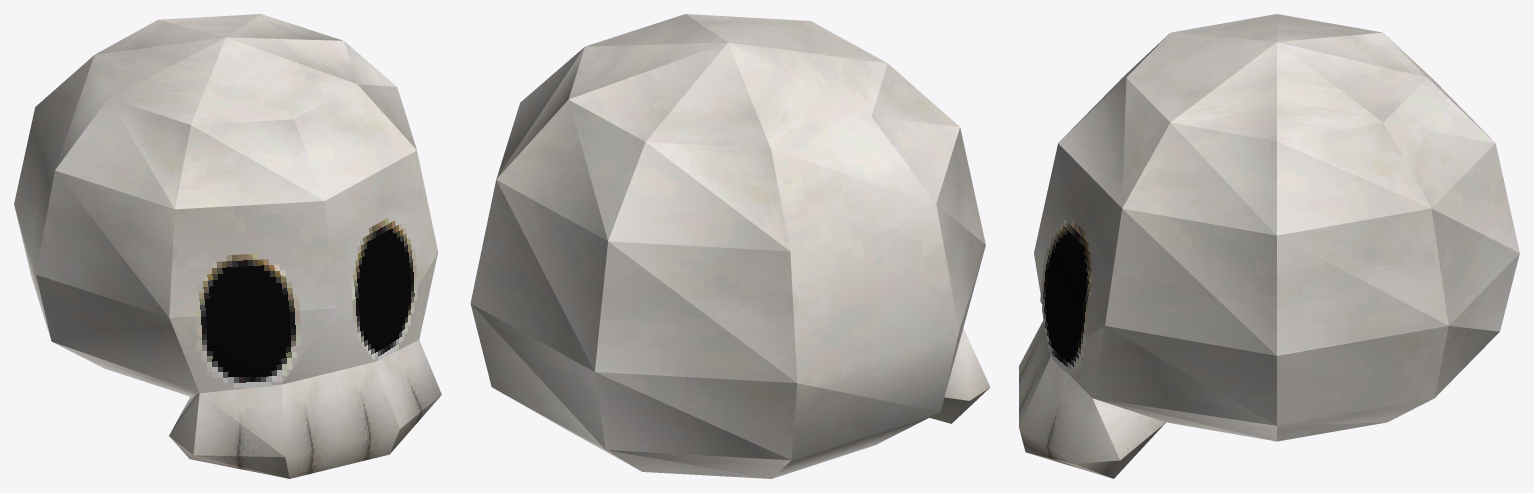
The model's file is Skull.obj.
3 renders of one model, left to right at view 1: azimuth 30°, elevation 25°; view 2: azimuth 150°, elevation 25°; view 3: azimuth 270°, elevation 25°, orthographic. The views are drawn at different scales.
Visible parts, largest first — view 1: Mesh_0104; view 2: Mesh_0104; view 3: Mesh_0104.
Boxes of the visible parts, <box> form: Mesh_0104: <box>14,14,441,478</box>; Mesh_0104: <box>470,14,990,478</box>; Mesh_0104: <box>1019,14,1519,478</box>.
Bounding box in the file's own units: 0.3 × 0.261 × 0.3092.
3 materials, 3 textured.
